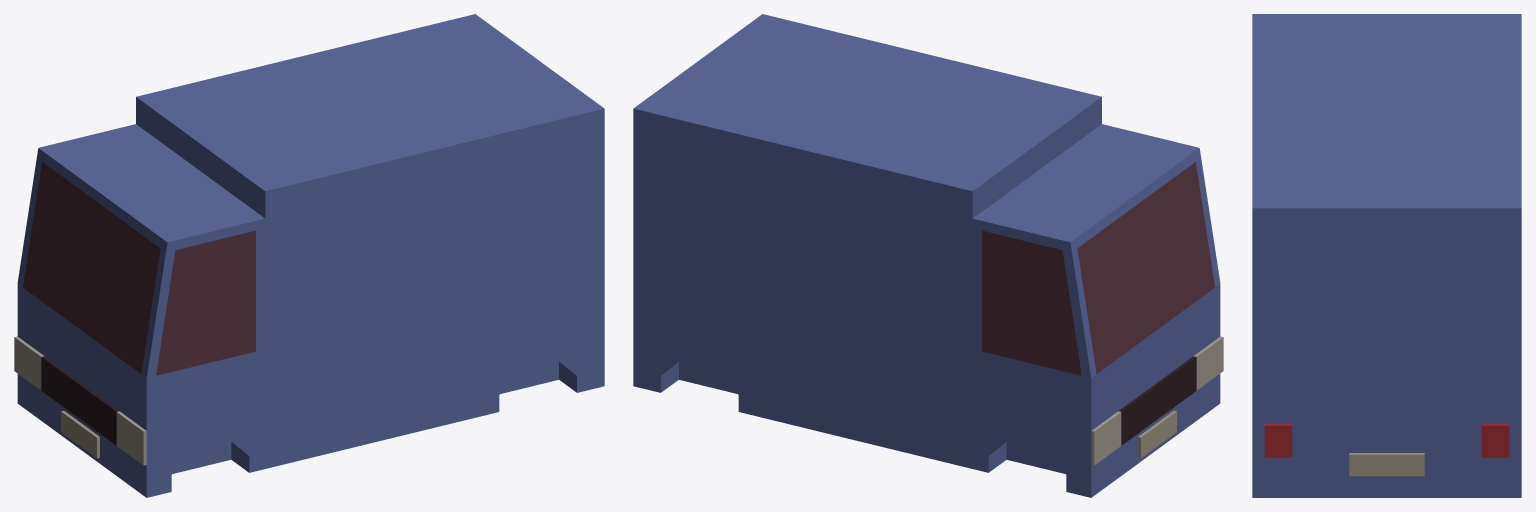
The model's file is MiniTruck_Blue.fbx.
3 renders of one model, left to right at view 1: azimuth 30°, elevation 25°; view 2: azimuth 150°, elevation 25°; view 3: azimuth 270°, elevation 25°, orthographic. The views are drawn at different scales.
Visible parts, largest first — view 1: MiniTruck_Blue, MiniTruck_Lights; view 2: MiniTruck_Blue, MiniTruck_Lights; view 3: MiniTruck_Blue, MiniTruck_Lights.
Boxes of the visible parts, <box> form: MiniTruck_Blue: <box>17,14,604,497</box>; MiniTruck_Lights: <box>14,336,146,465</box>; MiniTruck_Blue: <box>633,14,1220,497</box>; MiniTruck_Lights: <box>1091,336,1223,465</box>; MiniTruck_Blue: <box>1252,14,1521,497</box>; MiniTruck_Lights: <box>1264,424,1509,457</box>.
Size of the model in its own units: 4.46 by 2.55 by 2.15.
